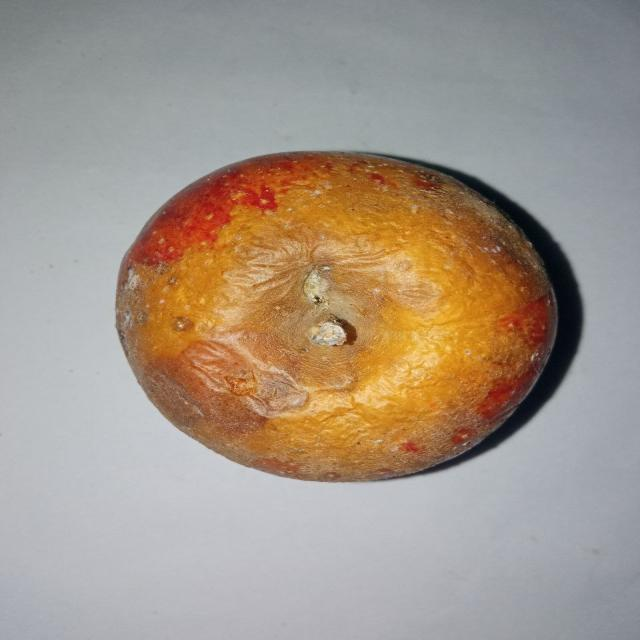rotten_apple: (115, 150, 559, 487)
